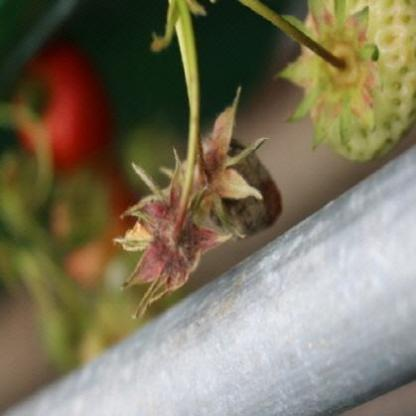Strawberry_Gray_Mold: (118, 148, 235, 318), (188, 106, 284, 238)
